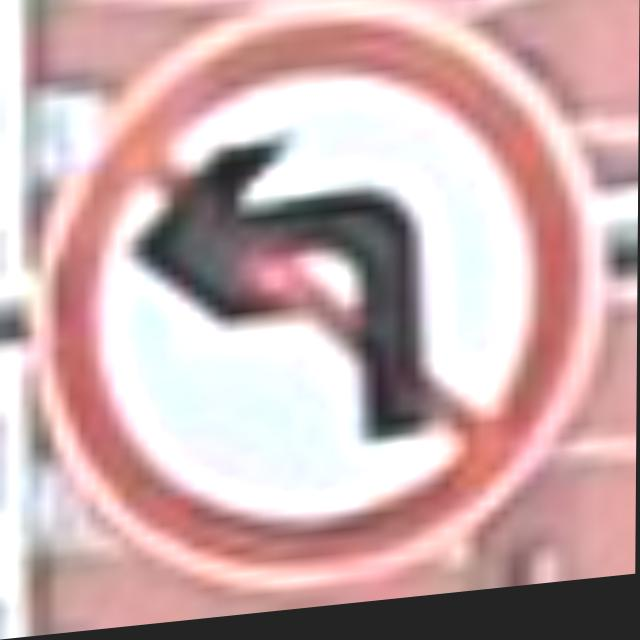not_turn_left: (39, 0, 613, 622)
